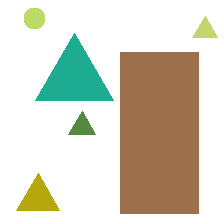circle: (24, 8, 44, 28)
rectangle: (120, 52, 198, 213)
triangle: (35, 33, 113, 100), (16, 173, 59, 210), (68, 111, 95, 134), (192, 16, 217, 37)
